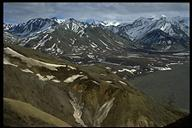mountain: (4, 9, 189, 122)
